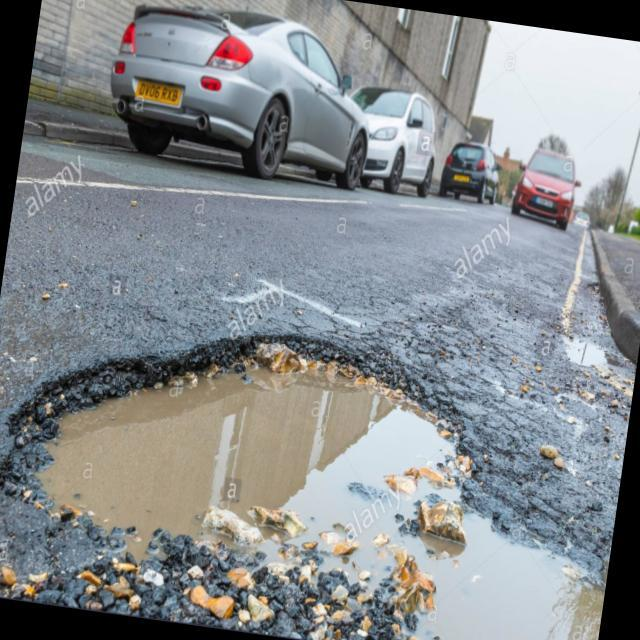Pothole: (0, 278, 636, 640), (550, 314, 640, 401)
